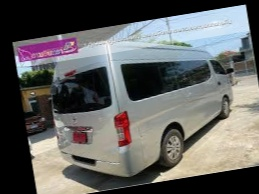van: (40, 22, 247, 181)
